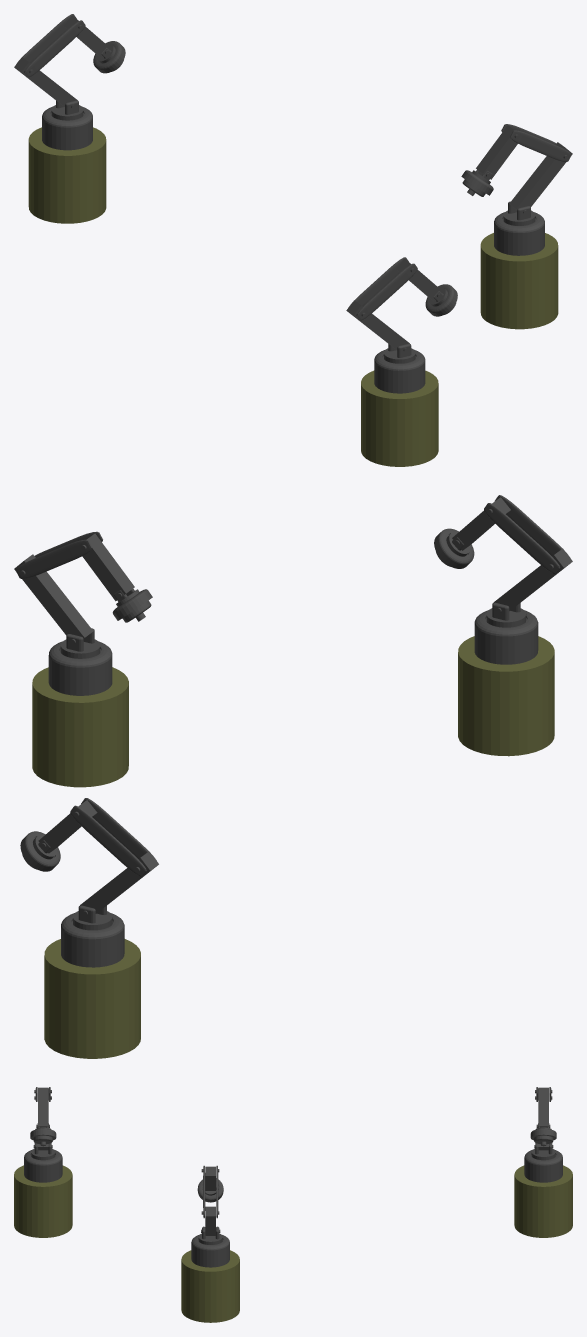
Rendered from Object_robotBase_roboticArm.fbx.
3 views of the same model, one above another, from view 1: azimuth 30°, elevation 25°; view 2: azimuth 150°, elevation 25°; view 3: azimuth 270°, elevation 25° (orthographic). The views are drawn at different scales.
Parts seen in each view (by area): view 1: manorobotica; view 2: manorobotica; view 3: manorobotica.
Boxes of the visible parts, box(x1,y1,x2,y2) form: manorobotica: box(14, 14, 572, 466); manorobotica: box(14, 495, 572, 1058); manorobotica: box(14, 1087, 572, 1322).
Bounding box in the file's own units: 4.3 × 2.33 × 8.35.
